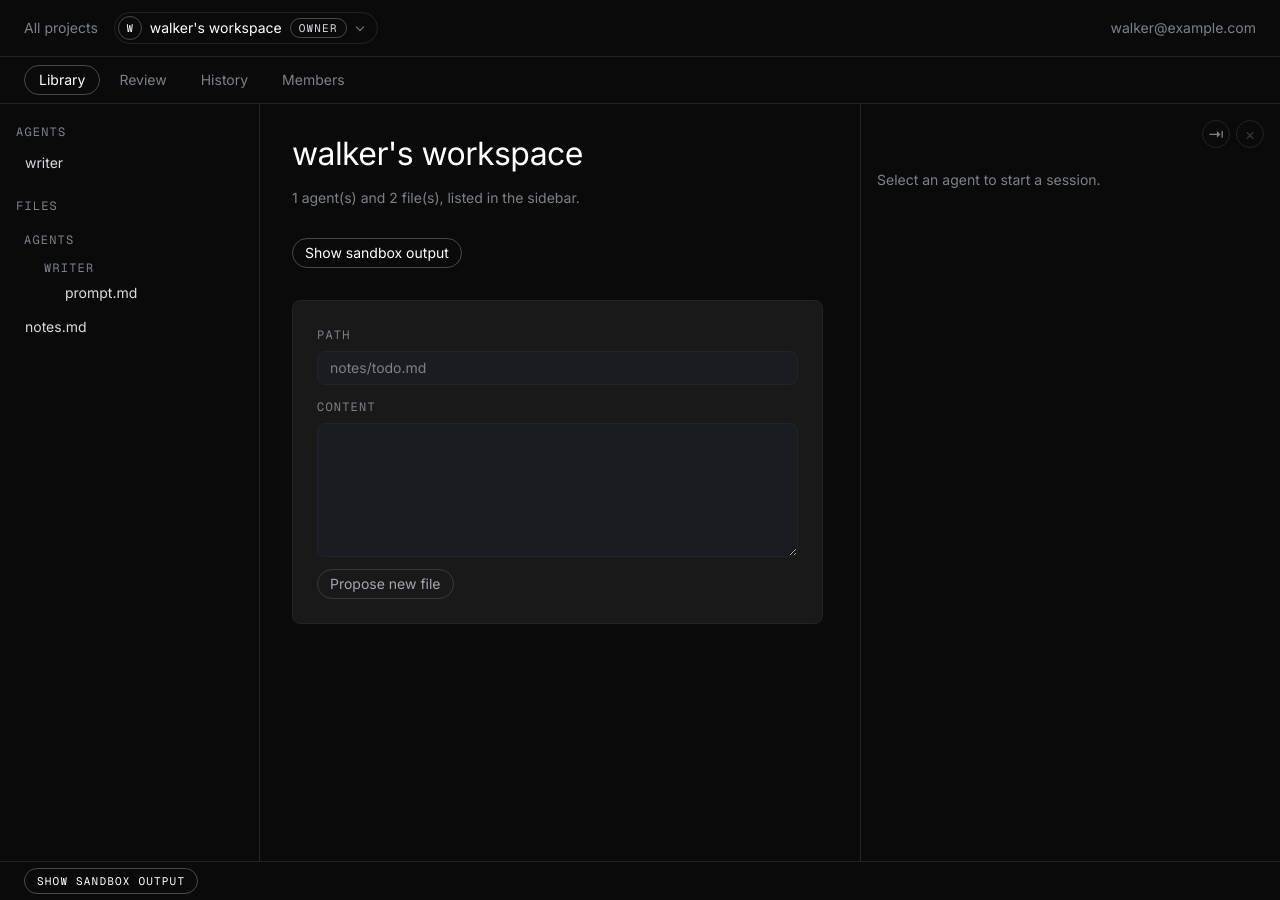
reading a file in the library › opens a file from the sidebar and renders its canonical content
The width and height of the screenshot is (1280, 900).
Click the button "notes.md".
click(130, 327)  # box [16,312,243,342]
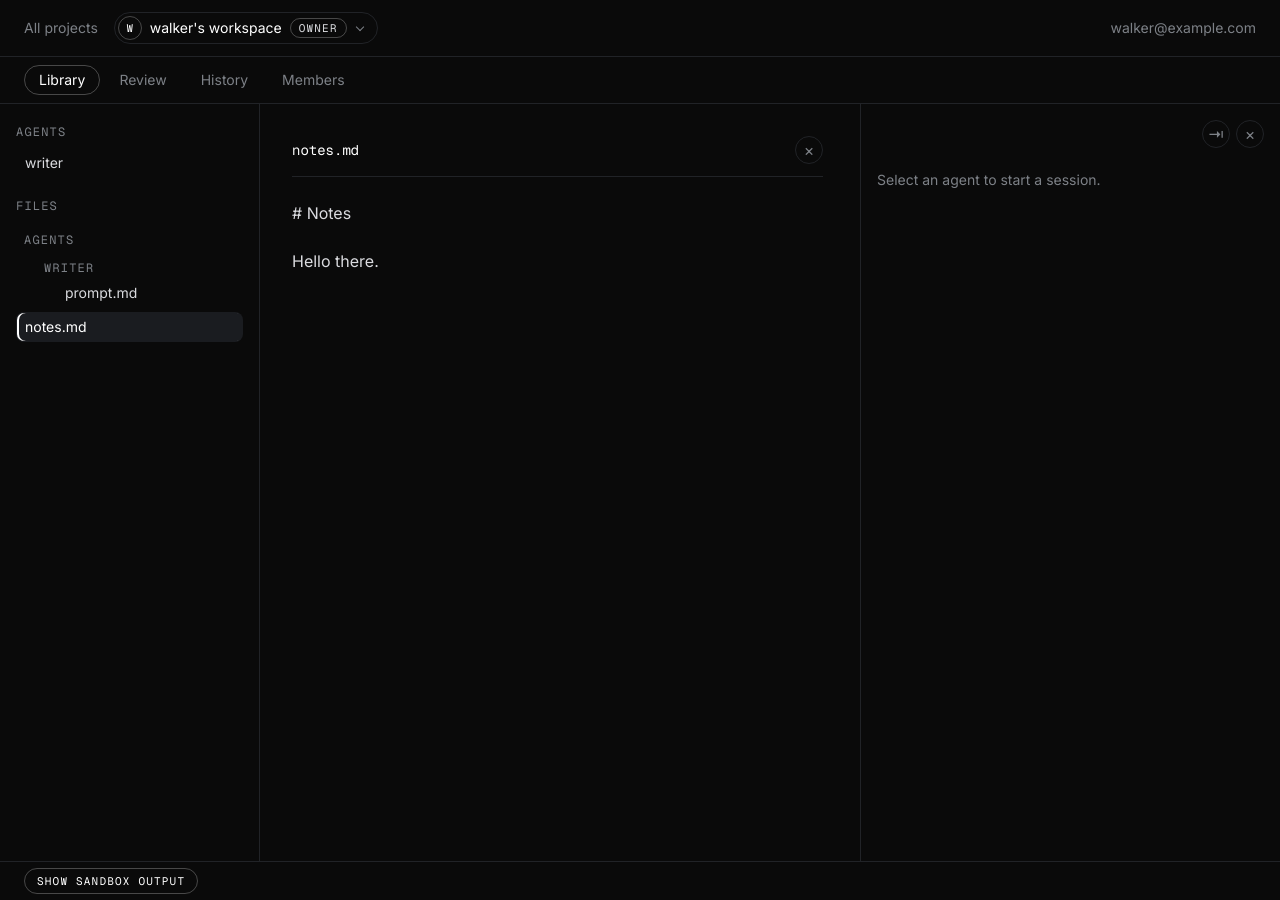
Expected: the text "# Notes Hello there." is shown, [292,203,379,271]
